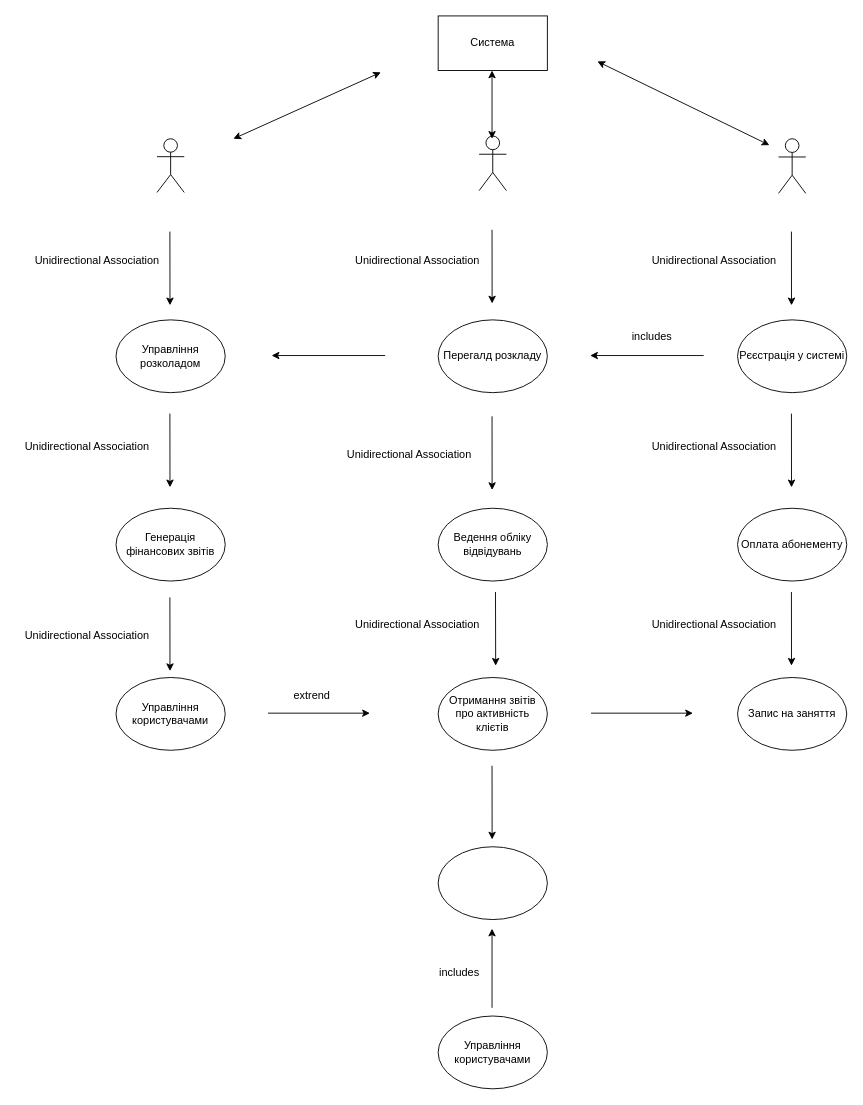
Some shapes in this 863 by 1105 pixel diagram are drawn without their labels. Each missing label, with the centre of its shape:
"Адміністратор" goes at pixel 170 165.
"Клієнт" goes at pixel 792 165.
"Надсилання сповіщень" goes at pixel 492 883.
"Інструктор" goes at pixel 492 163.
